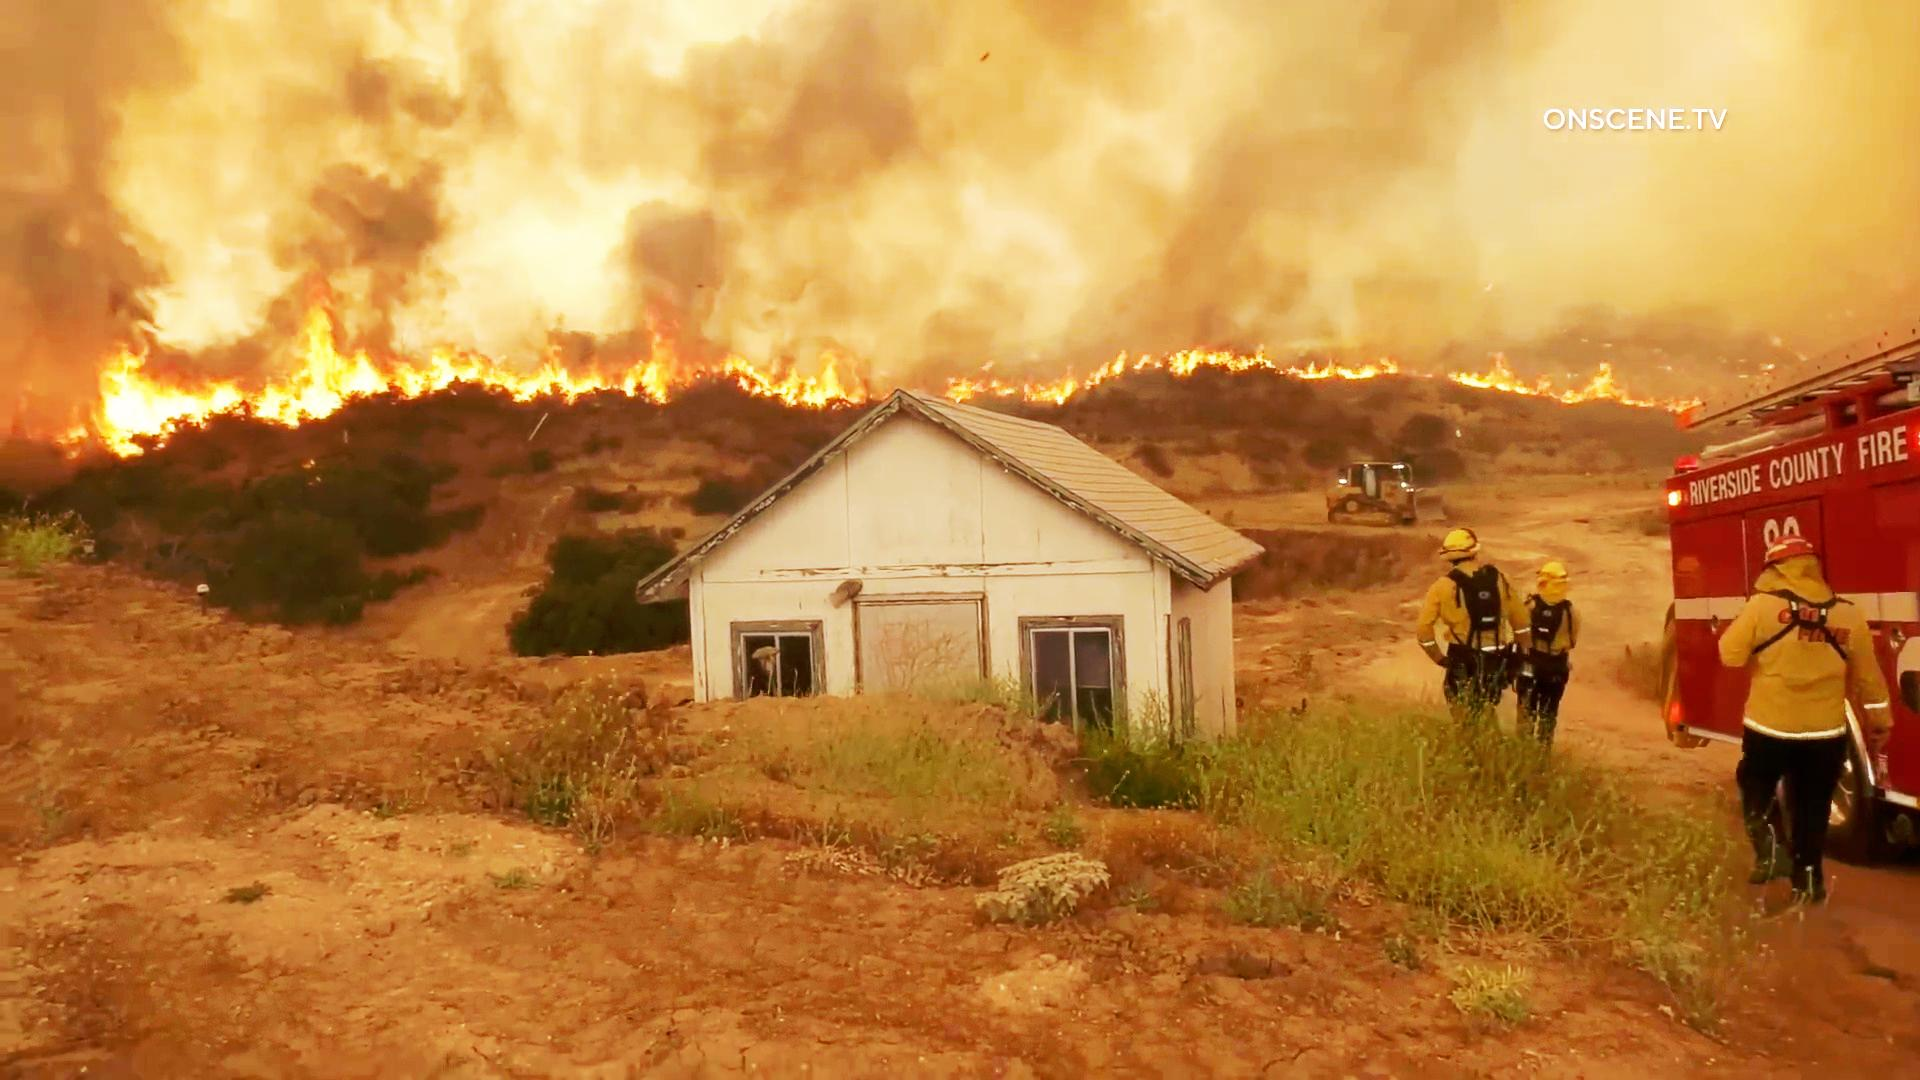fire: (264, 301, 716, 406), (1139, 343, 1702, 414), (63, 335, 307, 476), (973, 343, 1147, 426), (731, 328, 903, 405)
smoke: (996, 28, 1453, 307), (57, 22, 505, 273), (593, 145, 764, 293)
